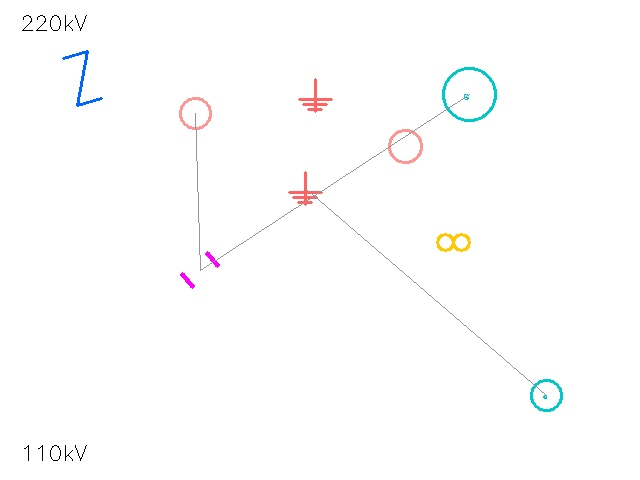capacitor: (173, 243, 227, 297)
circuit_breaker: (55, 51, 109, 105)
current_transformer: (164, 82, 226, 144)
fuse: (372, 113, 438, 179)
generator: (443, 68, 495, 120), (531, 380, 561, 410)
ground: (299, 79, 331, 111), (289, 172, 321, 204)
transformer_2w: (433, 222, 473, 262)
